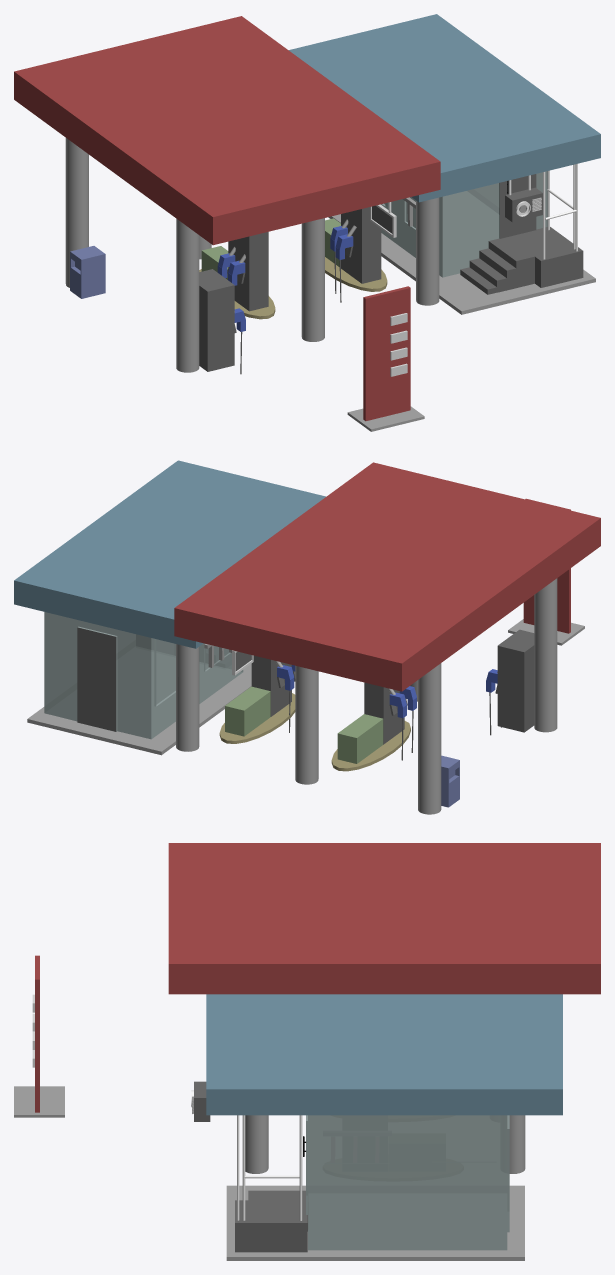
File: petrol station.fbx
3 renders of one model, top to bottom at view 1: azimuth 30°, elevation 25°; view 2: azimuth 150°, elevation 25°; view 3: azimuth 270°, elevation 25°, orthographic. The views are drawn at different scales.
Visible parts, largest first — view 1: rooftop, rooftop_2, shop, notice_board, shop_floor, pCylinder4, machine_3, stair, pCylinder5, pCylinder3, stair_platform, pCylinder6 (+7 smaller); view 2: rooftop, rooftop_2, shop, machine_3, pCylinder4, shop_floor, pCylinder3, pCylinder2, pCylinder7, table_2, table_1, machine_1 (+6 smaller); view 3: rooftop, rooftop_2, shop, shop_floor, stair_platform, notice_board_bottom, pCylinder6, pCylinder7, notice_board, stair, air_con.
Part boxes in pixels (x1,y1,x2,y2): rooftop: [14, 16, 440, 245]; rooftop_2: [289, 14, 600, 202]; shop: [381, 171, 547, 277]; notice_board: [363, 286, 410, 421]; shop_floor: [328, 214, 595, 314]; pCylinder4: [176, 219, 199, 372]; machine_3: [199, 269, 234, 371]; stair: [460, 236, 534, 294]; pCylinder5: [301, 218, 324, 341]; pCylinder3: [65, 138, 88, 287]; stair_platform: [509, 227, 583, 287]; pCylinder6: [416, 197, 439, 305]; rooftop: [174, 462, 600, 691]; rooftop_2: [14, 460, 325, 648]; shop: [44, 612, 243, 739]; machine_3: [497, 629, 534, 732]; pCylinder4: [534, 578, 557, 732]; shop_floor: [27, 663, 251, 755]; pCylinder3: [418, 663, 441, 814]; pCylinder2: [295, 665, 318, 784]; pCylinder7: [176, 644, 199, 751]; table_2: [337, 714, 383, 763]; table_1: [225, 686, 270, 736]; machine_1: [251, 655, 291, 716]; rooftop: [168, 843, 600, 994]; rooftop_2: [206, 994, 562, 1115]; shop: [306, 1115, 509, 1250]; shop_floor: [226, 1185, 524, 1260]; stair_platform: [235, 1200, 307, 1252]; notice_board_bottom: [14, 1086, 64, 1117]; pCylinder6: [245, 1115, 268, 1173]; pCylinder7: [509, 1115, 525, 1173]; notice_board: [35, 955, 39, 1112]; stair: [248, 1190, 307, 1231]; air_con: [194, 1081, 210, 1121].
Size of the model in its own units: 15.52 by 7.2 by 17.73.
